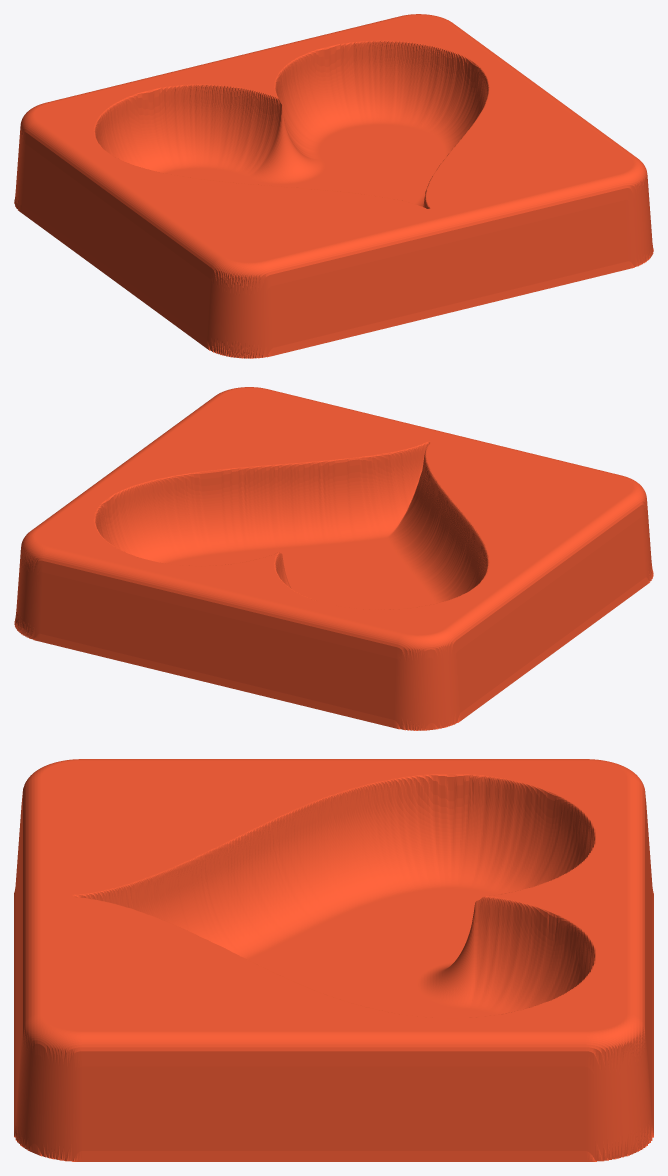
File: mold.glb
The picture shows the model from 3 angles, top to bottom: view 1: azimuth 30°, elevation 25°; view 2: azimuth 150°, elevation 25°; view 3: azimuth 270°, elevation 25°; orthographic projection. The views are drawn at different scales.
Visible parts, largest first — view 1: geometry_0; view 2: geometry_0; view 3: geometry_0.
Boxes of the visible parts, left/top/right/bottom form: geometry_0: left=14, top=14, right=653, bottom=358; geometry_0: left=14, top=387, right=653, bottom=730; geometry_0: left=14, top=759, right=653, bottom=1161.
Bounding box in the file's own units: 0.0924 × 0.0175 × 0.0852.
